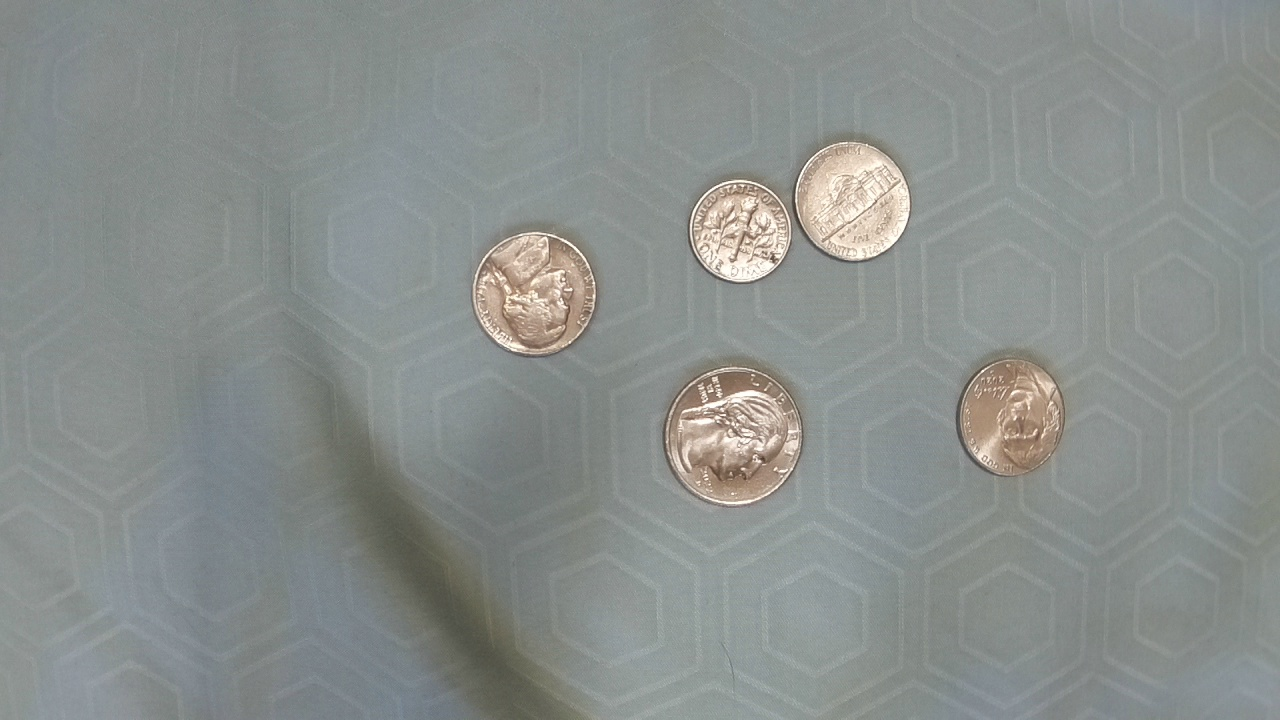dime: (684, 175, 794, 285)
nickel: (471, 227, 599, 359), (790, 137, 914, 263), (954, 358, 1066, 478)
quarter: (662, 360, 804, 508)
